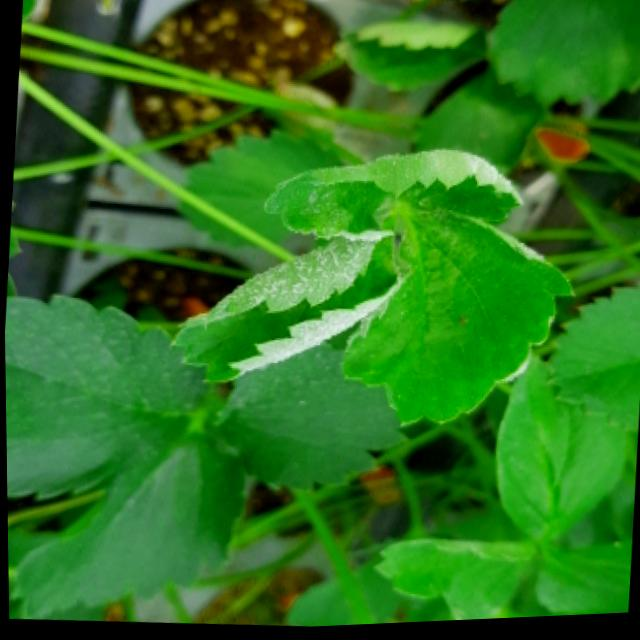Powdery Mildew Leaf: (339, 197, 575, 433), (169, 239, 393, 386), (259, 152, 520, 245)
